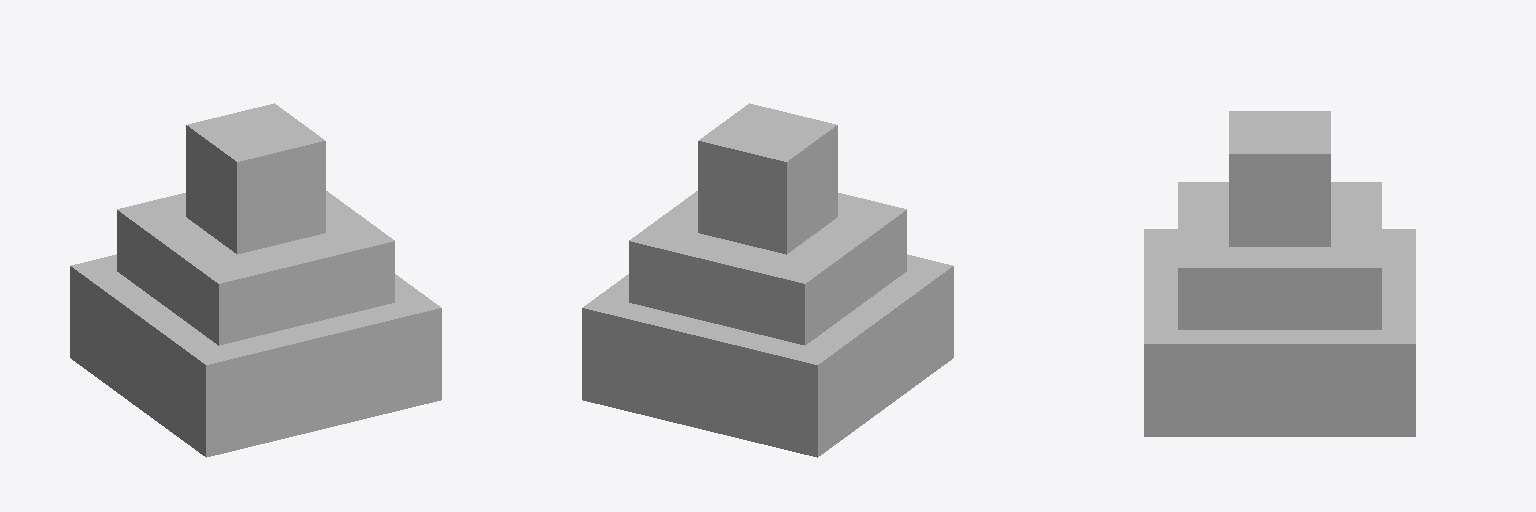
The model's file is bus_relay.obj.
3 views of the same model, side by side, from view 1: azimuth 30°, elevation 25°; view 2: azimuth 150°, elevation 25°; view 3: azimuth 270°, elevation 25° (orthographic).
Visible parts, largest first — view 1: BusRelay; view 2: BusRelay; view 3: BusRelay.
Part boxes in pixels (bbox=[...]): BusRelay: bbox=[70, 103, 441, 457]; BusRelay: bbox=[582, 103, 953, 457]; BusRelay: bbox=[1144, 111, 1415, 436].
Size of the model in its own units: 0.5 by 0.5 by 0.5.